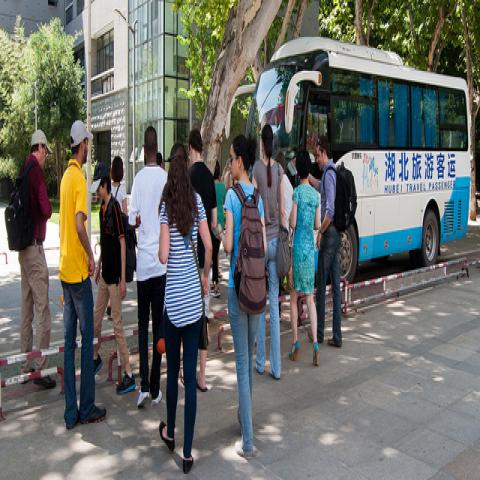bus: (225, 36, 472, 286)
